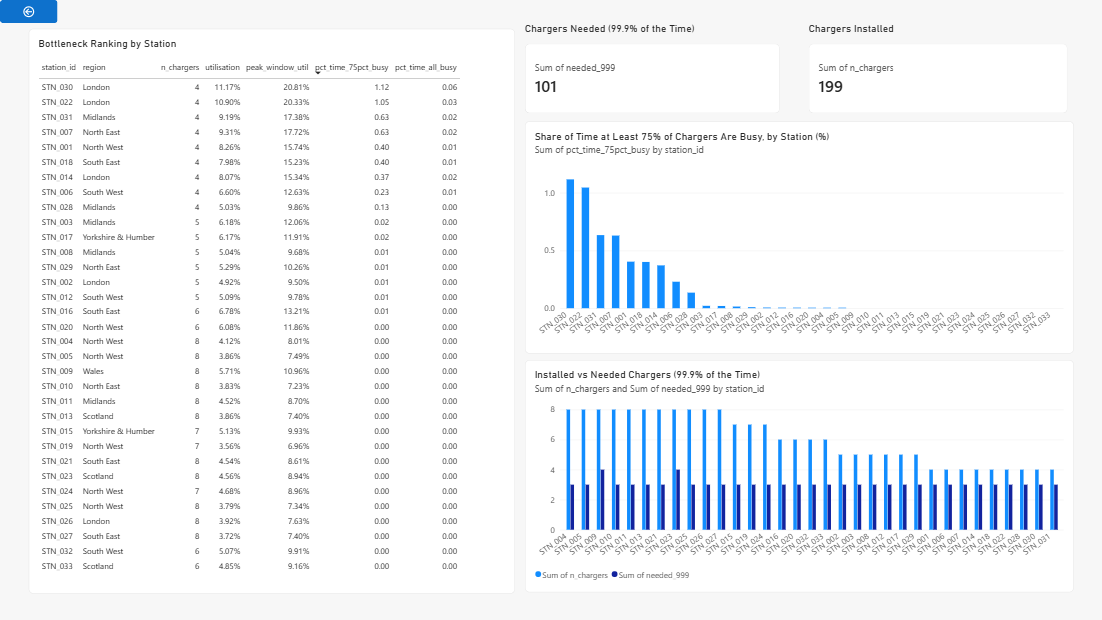

What the dashboard file says about the page in this screenshot:
{"tool":"powerbi","page":{"name":"Bottlenecks & Capacity","canvas":[1920,1080],"ordinal":2},"visuals":[{"type":"clusteredColumnChart","title":"Share of Time at Least 75% of Chargers Are Busy, by Station (%)","fields":{"Category":["station_summary.station_id"],"Y":["Sum(station_summary.pct_time_75pct_busy)"]},"box":[913,210.9,954.3,404.3],"z":0},{"type":"clusteredColumnChart","title":"Installed vs Needed Chargers (99.9% of the Time)","fields":{"Category":["station_summary.station_id"],"Y":["Sum(station_summary.n_chargers)","Sum(station_summary.needed_999)"]},"box":[912.4,626.1,954.3,404.3],"z":1},{"type":"cardVisual","title":"Chargers Installed","fields":{"Data":["Sum(station_summary.n_chargers)"]},"box":[1405.9,39.1,450,158.7],"z":2},{"type":"cardVisual","title":"Chargers Needed (99.9% of the Time)","fields":{"Data":["Sum(station_summary.needed_999)"]},"box":[912.4,39.1,443.5,158.7],"z":3},{"type":"tableEx","title":"Bottleneck Ranking by Station","fields":{"Values":["station_summary.station_id","station_summary.region","station_summary.n_chargers","station_summary.utilisation","station_summary.peak_window_util","station_summary.pct_time_75pct_busy","station_summary.pct_time_all_busy"]},"box":[50,50,845.7,982.6],"z":4},{"type":"actionButton","box":[0,0,100,40],"z":5}]}

Visuals, with their boxes in screenshot pixels (x1, y1, x2, y2), scaled from the page's 1920x1080 canvas onto the 1102x620 screenshot:
"Share of Time at Least 75% of Chargers Are Busy, by Station (%)" clusteredColumnChart: {"left": 524, "top": 121, "right": 1072, "bottom": 353}
"Installed vs Needed Chargers (99.9% of the Time)" clusteredColumnChart: {"left": 524, "top": 359, "right": 1071, "bottom": 592}
"Chargers Installed" cardVisual: {"left": 807, "top": 22, "right": 1065, "bottom": 114}
"Chargers Needed (99.9% of the Time)" cardVisual: {"left": 524, "top": 22, "right": 778, "bottom": 114}
"Bottleneck Ranking by Station" tableEx: {"left": 29, "top": 29, "right": 514, "bottom": 593}
actionButton: {"left": 0, "top": 0, "right": 57, "bottom": 23}
